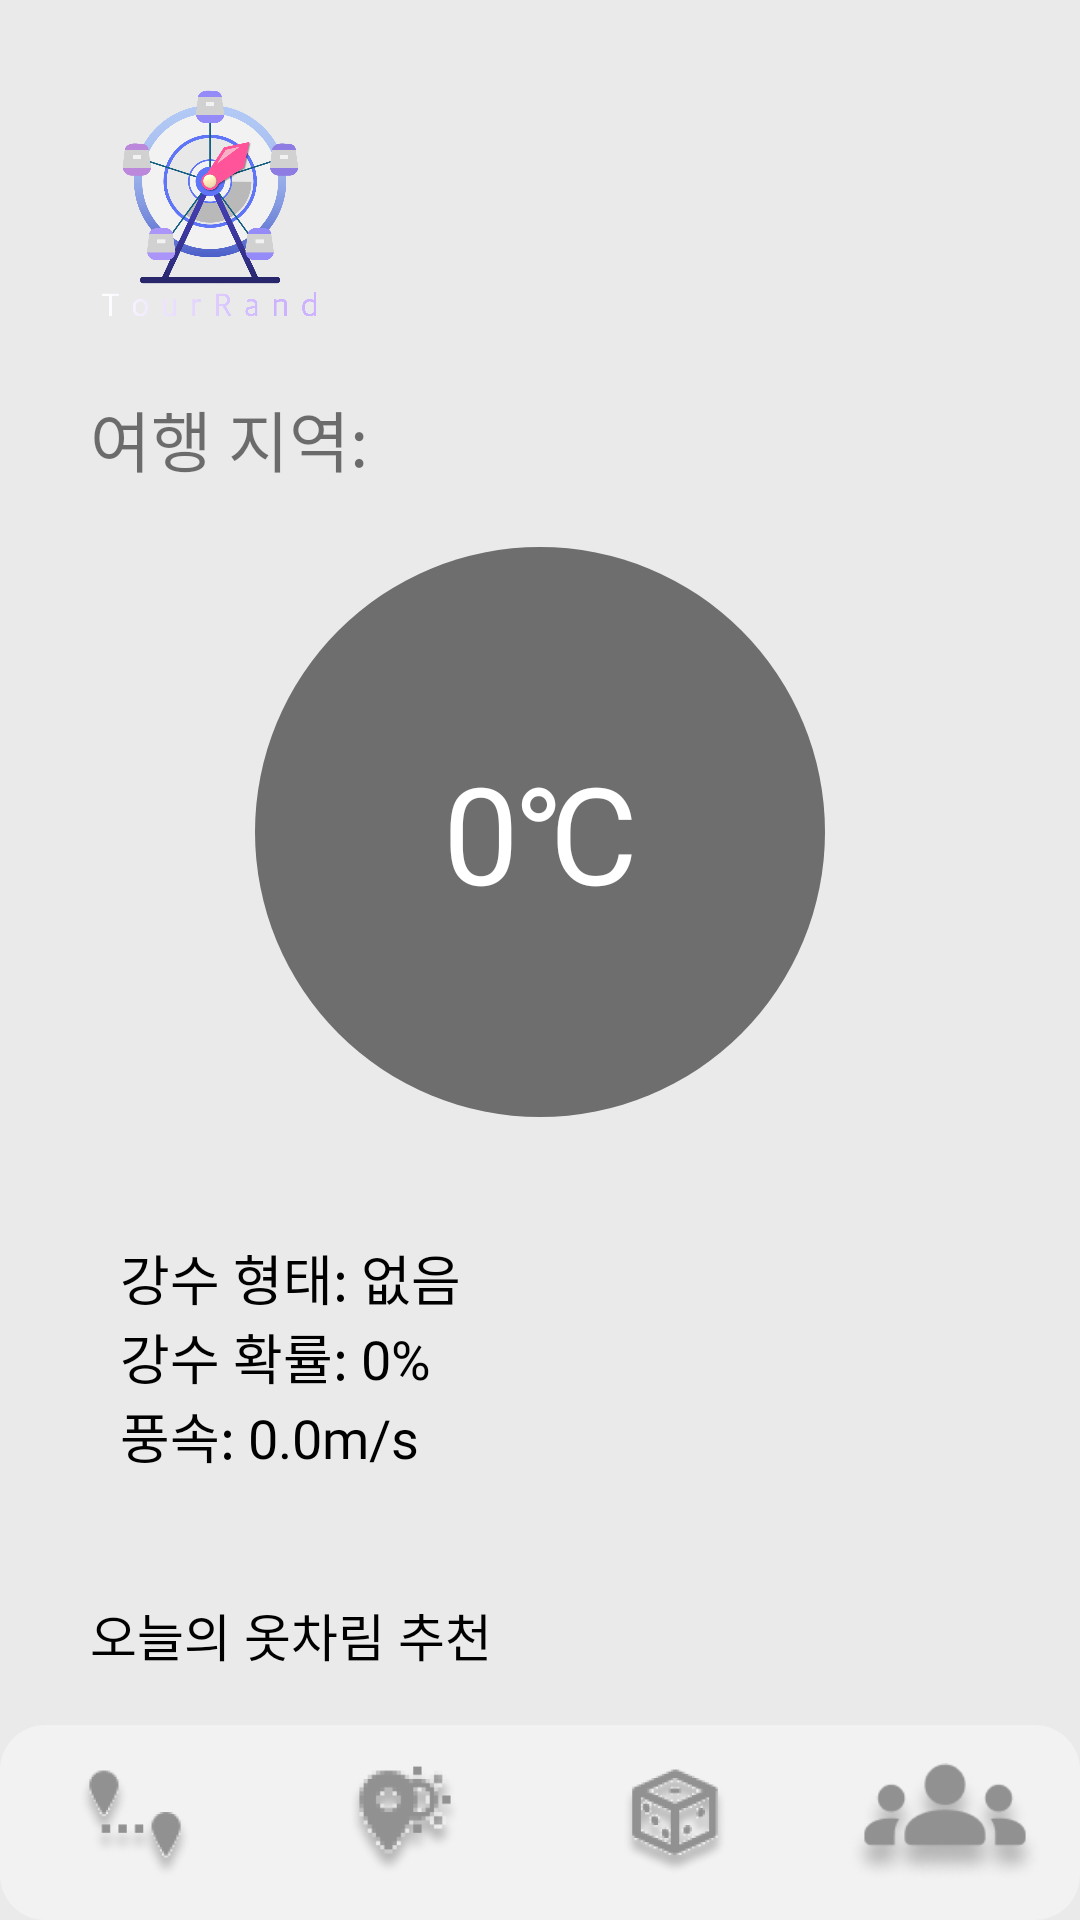

Where to tap for icons on this 1080px x 1920px app screen, as [x,y]:
group off: [945,1814]
random off: [675,1817]
weather off: [404,1815]
